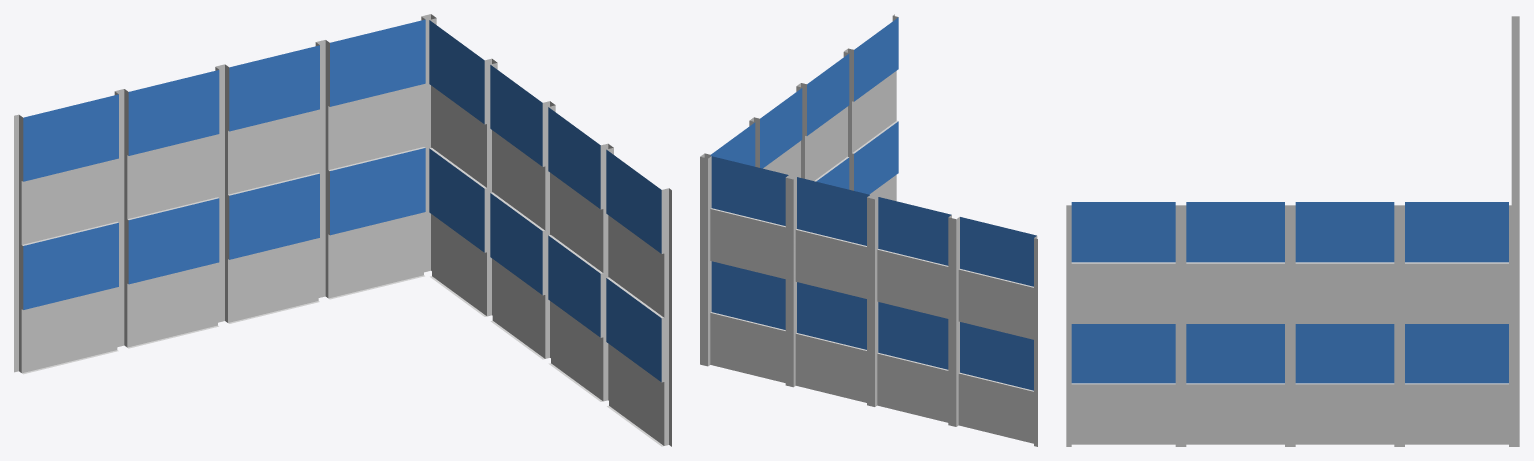
File: 01b_mid.fbx
3 renders of one model, left to right at view 1: azimuth 30°, elevation 25°; view 2: azimuth 150°, elevation 25°; view 3: azimuth 270°, elevation 25°, orthographic. The views are drawn at different scales.
Visible parts, largest first — view 1: 01b_Mid; view 2: 01b_Mid; view 3: 01b_Mid.
Boxes of the visible parts, x1,y1,x2,y2 form: 01b_Mid: [14, 14, 671, 446]; 01b_Mid: [700, 14, 1037, 446]; 01b_Mid: [1066, 16, 1519, 446].
Size of the model in its own units: 42.5 by 25 by 42.5.
